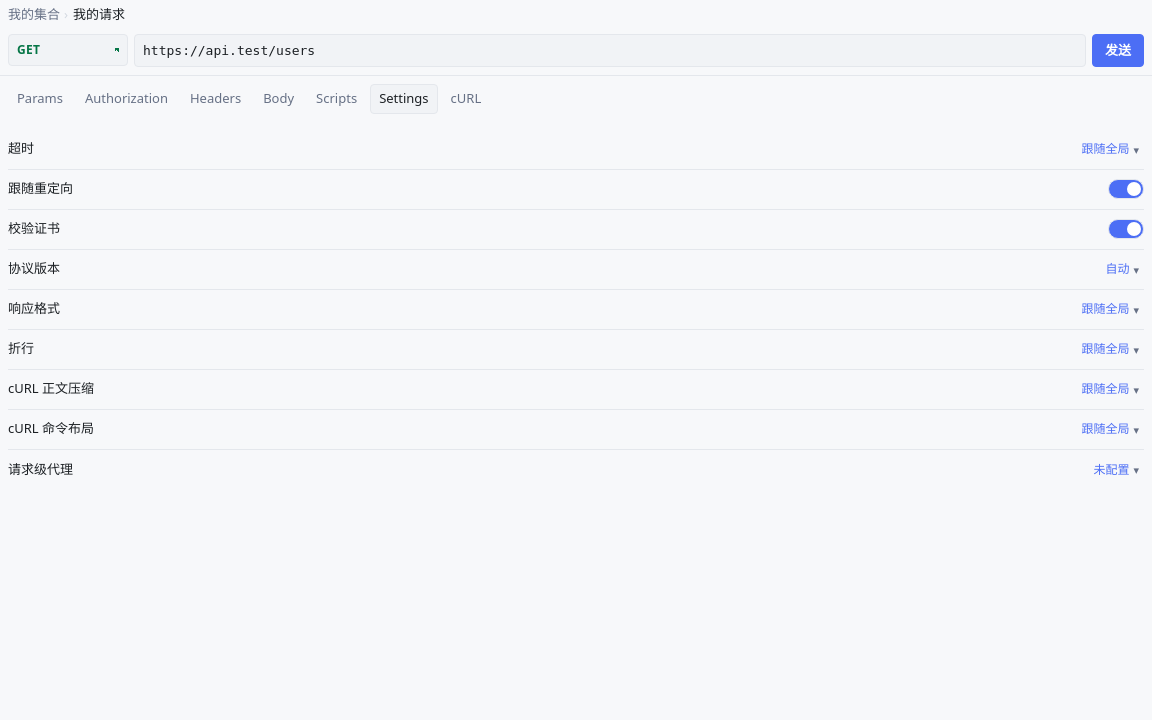
请求级代理的四态（spec: http-engine「三级代理」） › 可选值覆盖五种状态，缺省是「未配置」
Click the button with test id "request-proxy-mode". click: (1116, 470)
box: [1088, 458, 1144, 482]
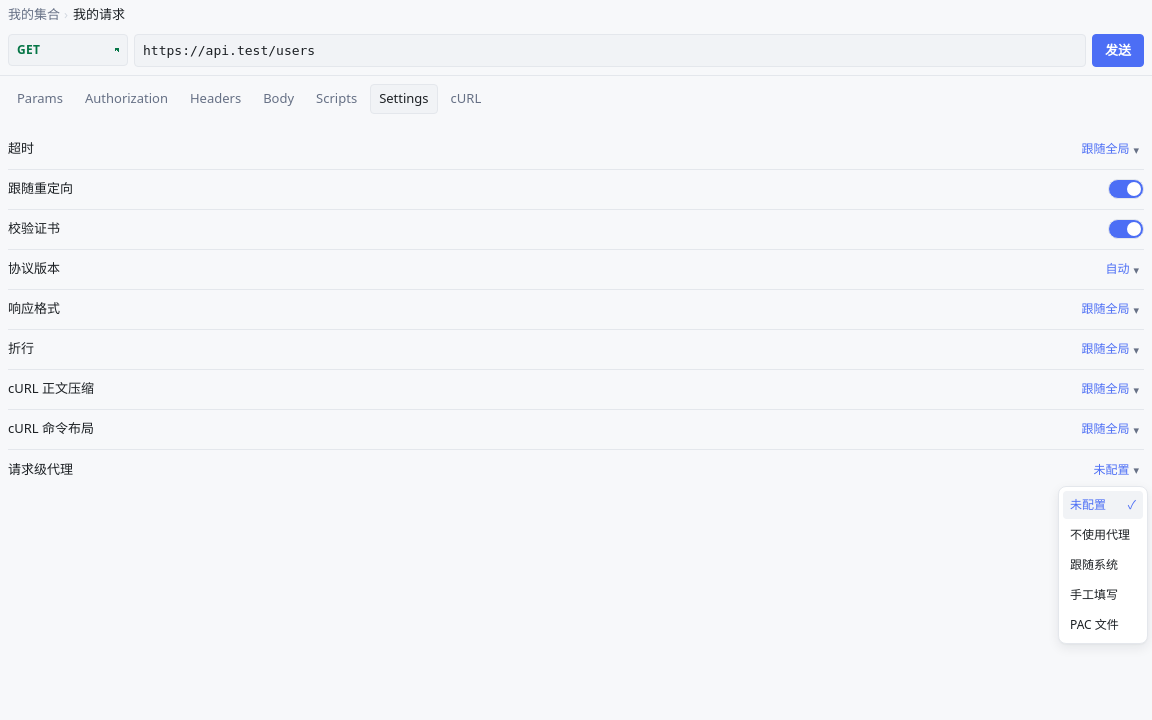
Check: the option "未配置 ✓" is shown, box [1063, 490, 1143, 518]
Check: the option "不使用代理" is shown, box [1063, 520, 1143, 548]
Check: the option "跟随系统" is shown, box [1063, 550, 1143, 578]
